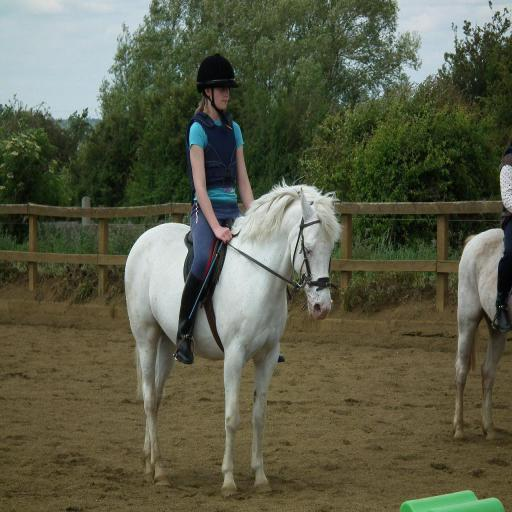horse: (123, 174, 345, 497), (454, 228, 512, 448)
